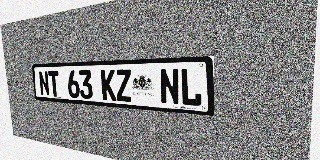3: (78, 70, 93, 99)
6: (67, 70, 80, 98)
K: (100, 69, 116, 101)
L: (180, 68, 202, 107)
N: (159, 68, 180, 105), (38, 71, 50, 96)
T: (48, 71, 60, 97)
Z: (115, 69, 132, 102)
